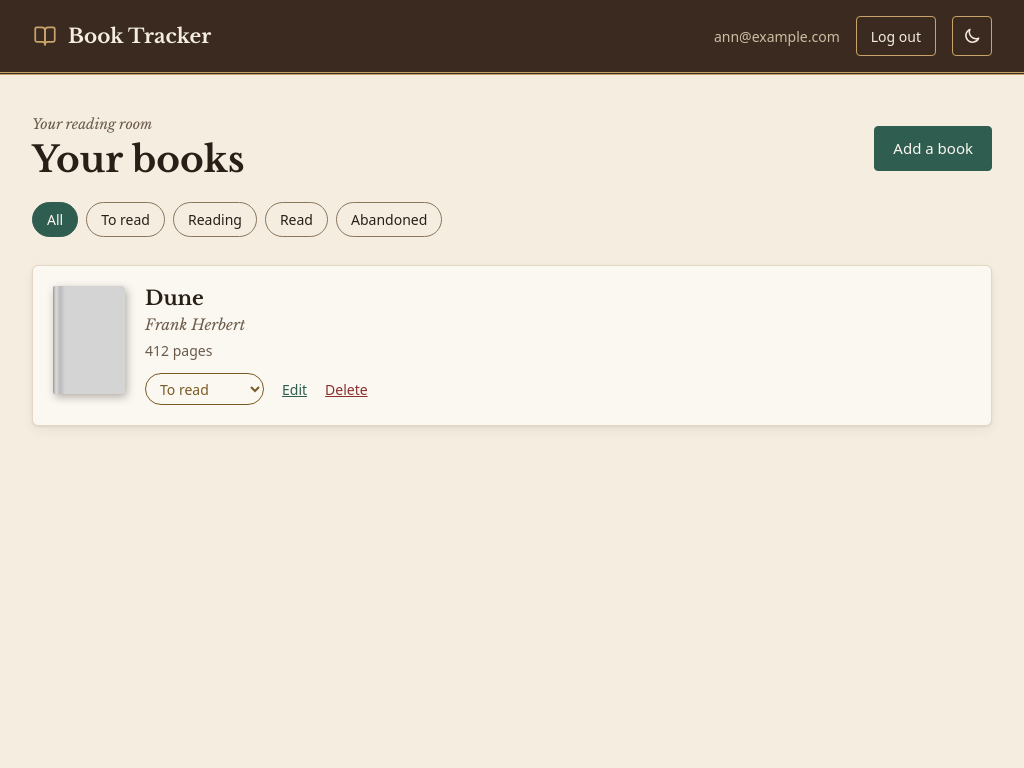
it: edit a book › opens from the list with the current values and saves the changes
Click the link with aria-label "Edit Dune": (295, 389) [282,378,307,400]
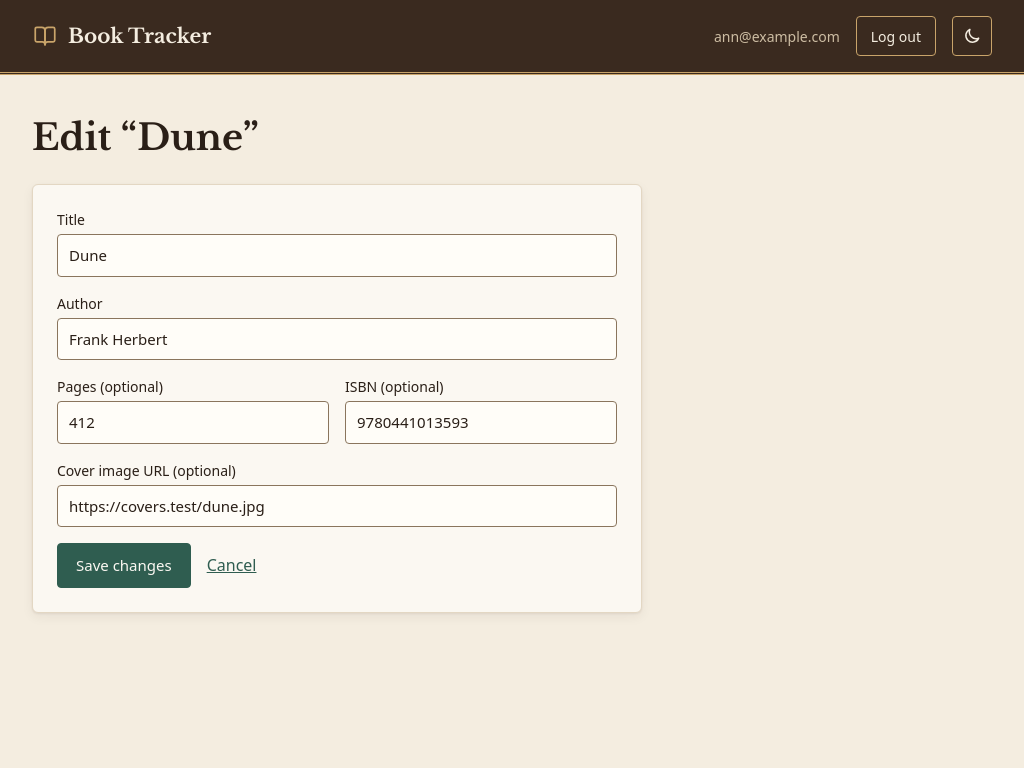
Check: the field labelled "Title" holds "Dune"
Check: the field labelled "Author" holds "Frank Herbert", box [57,318,617,360]
Check: the field labelled "Pages (optional)" holds "412", box [57,401,329,444]
Replace the text in the field labelled "Title" with "Dune Messiah": (337, 255) [57,234,617,276]
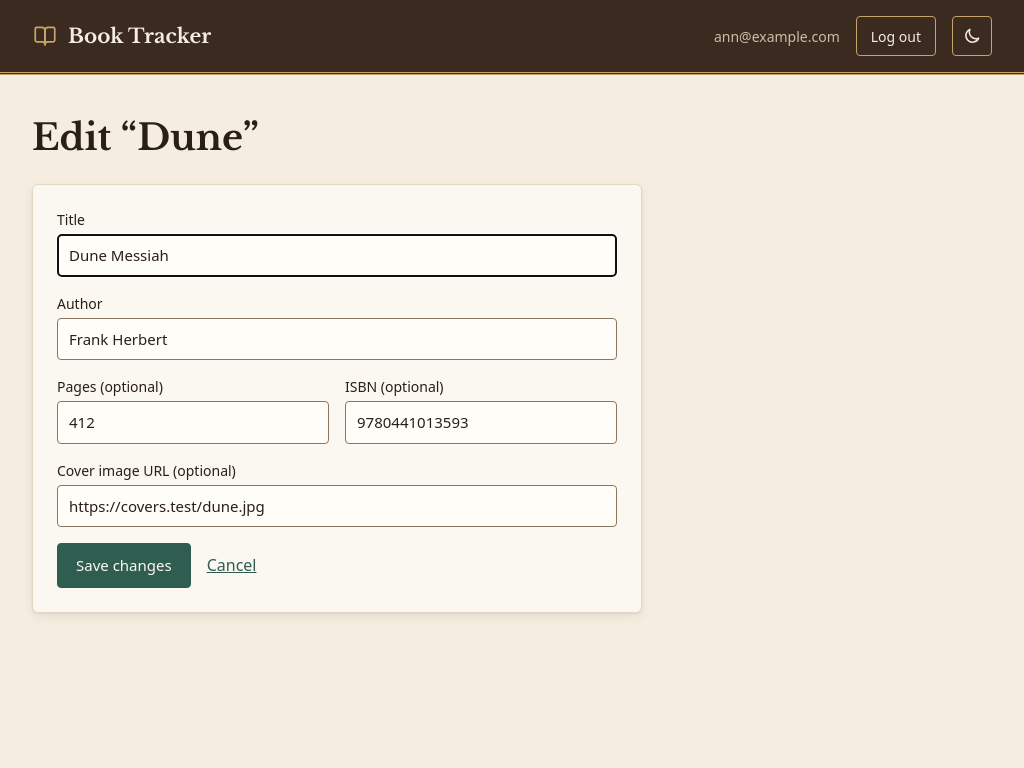
Clear the field labelled "ISBN (optional)": (481, 422) [345,401,617,444]
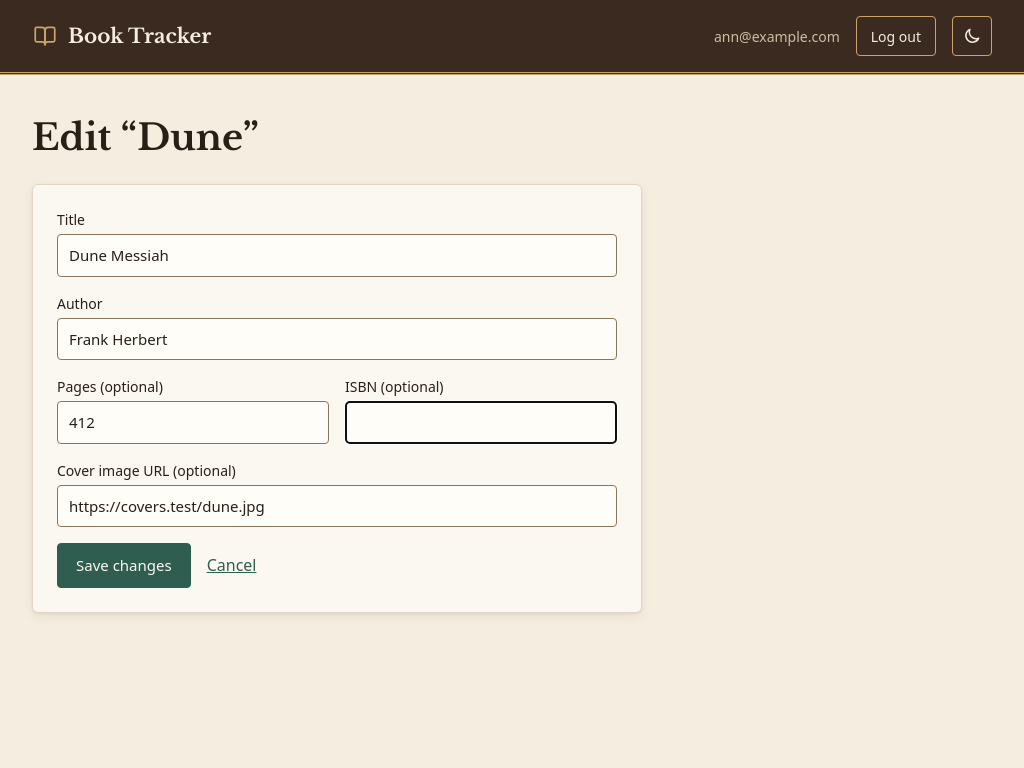
Click the button "Save changes": (124, 565) [57,543,191,588]
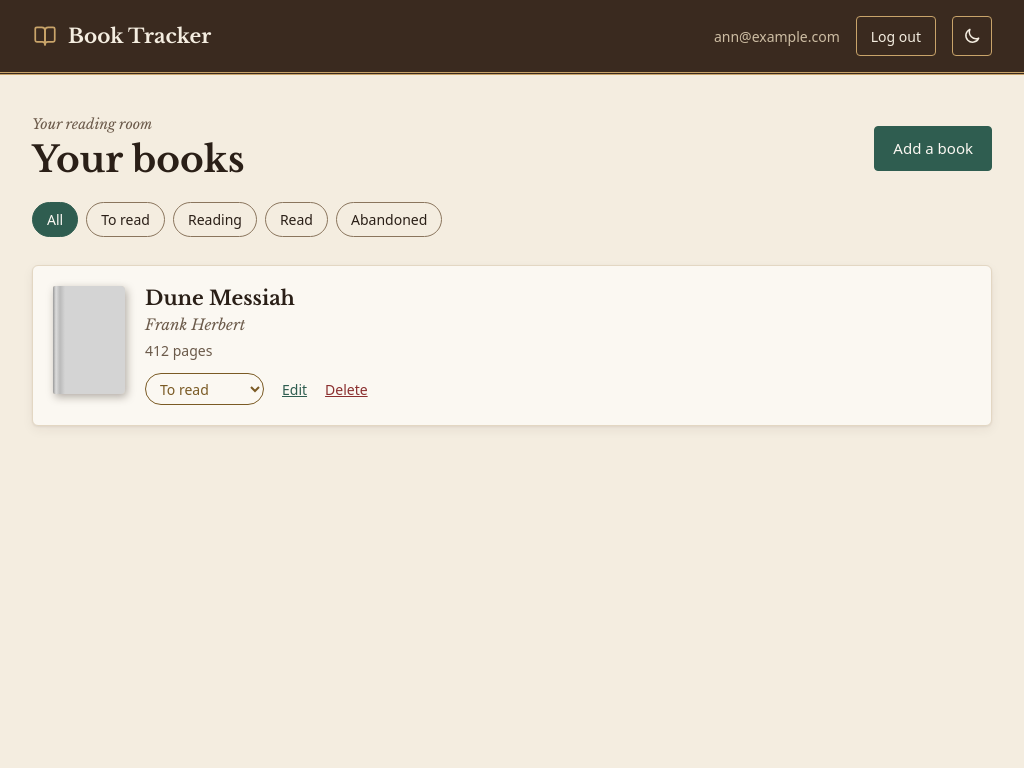
Check: the heading "Dune Messiah" is shown, box [145,286,295,310]
